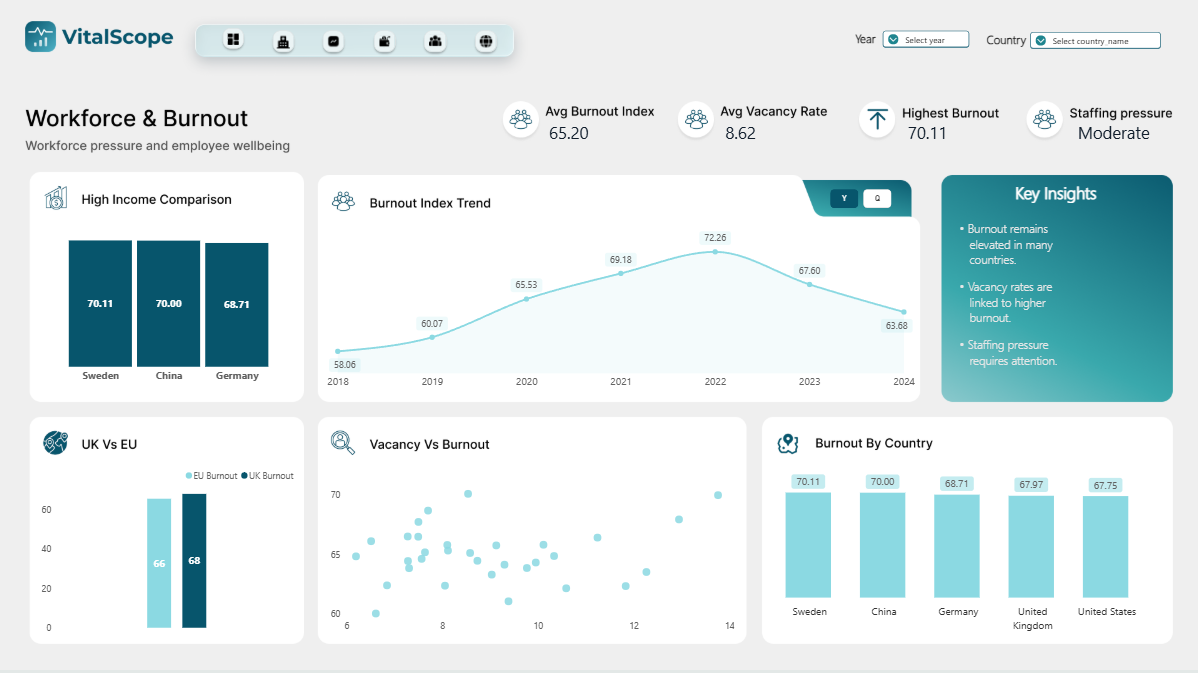

The page's visual inventory and layout, read from the dashboard file:
{"tool":"powerbi","page":{"name":"Workforce & Burnout","canvas":[1920,1080],"ordinal":4},"visuals":[{"type":"actionButton","box":[358.8,48.9,33.8,33.1],"z":0},{"type":"actionButton","box":[438.9,51,34,34],"z":1000},{"type":"actionButton","box":[518.9,51,34,34],"z":2000},{"type":"actionButton","box":[600.6,51,34,34],"z":3000},{"type":"actionButton","box":[680.5,51,35.7,34],"z":4000},{"type":"actionButton","box":[762.2,51,34,34],"z":5000},{"type":"listSlicer","fields":{"Values":["dim_country.country_name"]},"box":[1634.7,40.8,240.8,71],"z":6000},{"type":"textbox","box":[1580,53.3,70,25],"z":7000},{"type":"textbox","box":[1370.2,52.6,57.9,38.6],"z":8000},{"type":"listSlicer","fields":{"Values":["dim_date.year"]},"box":[1398.2,38.6,170.2,70.2],"z":9000},{"type":"advancedSlicerVisual","fields":{"Values":["trends.trends"]},"box":[1330,306,98,30],"z":10000},{"type":"cardVisual","fields":{"Data":["_Measures.Avg Burnout Index"]},"box":[864.3,195.7,148,39.1],"z":11000},{"type":"cardVisual","fields":{"Data":["_Measures.Avg Vacancy Rate"]},"box":[1146.7,195.7,148,39.1],"z":12000},{"type":"cardVisual","fields":{"Data":["_Measures.Highest Burnout"]},"box":[1437.6,195.7,148,39.1],"z":13000},{"type":"cardVisual","fields":{"Data":["_Measures.Staffing Pressure"]},"box":[1709.8,195.7,148,39.1],"z":14000},{"type":"lineChart","fields":{"Category":["dim_date.year"],"Y":["_Measures.Avg Burnout Index"]},"box":[508.6,352.8,973.9,294.3],"z":15000},{"type":"scatterChart","fields":{"Category":["dim_country.country_name"],"X":["_Measures.Avg Vacancy Rate"],"Y":["_Measures.Avg Burnout Index"]},"box":[513.9,733.1,678.8,300.6],"z":16000},{"type":"columnChart","fields":{"Category":["dim_country.country_name"],"Y":["_Measures.Avg Burnout Index"]},"box":[1167.9,733.4,707.1,299],"z":17000},{"type":"clusteredColumnChart","fields":{"Y":["_Measures.EU Burnout","_Measures.UK Burnout"]},"box":[52.4,733.1,440.2,300.6],"z":18000},{"type":"clusteredColumnChart","fields":{"Category":["dim_country.country_name"],"Y":["_Measures.Avg Burnout Index"]},"box":[52.4,335.5,440.2,300.6],"z":19000},{"type":"textbox","box":[1522.7,338.6,280.7,316.4],"z":20000},{"type":"textbox","box":[1626.8,291.1,189.3,114.3],"z":21000}]}

Visuals, with their boxes in screenshot pixels (x1, y1, x2, y2), scaled from the page's 1920x1080 canvas onto the 1198x673 screenshot:
actionButton: select_region(224, 30, 245, 51)
actionButton: select_region(274, 32, 295, 53)
actionButton: select_region(324, 32, 345, 53)
actionButton: select_region(375, 32, 396, 53)
actionButton: select_region(425, 32, 447, 53)
actionButton: select_region(476, 32, 497, 53)
listSlicer - dim_country.country_name: select_region(1020, 25, 1170, 70)
textbox: select_region(986, 33, 1030, 49)
textbox: select_region(855, 33, 891, 57)
listSlicer - dim_date.year: select_region(872, 24, 979, 68)
advancedSlicerVisual - trends.trends: select_region(830, 191, 891, 209)
cardVisual - _Measures.Avg Burnout Index: select_region(539, 122, 632, 146)
cardVisual - _Measures.Avg Vacancy Rate: select_region(715, 122, 808, 146)
cardVisual - _Measures.Highest Burnout: select_region(897, 122, 989, 146)
cardVisual - _Measures.Staffing Pressure: select_region(1067, 122, 1159, 146)
lineChart - dim_date.year x _Measures.Avg Burnout Index: select_region(317, 220, 925, 403)
scatterChart - dim_country.country_name x _Measures.Avg Vacancy Rate: select_region(321, 457, 744, 644)
columnChart - dim_country.country_name x _Measures.Avg Burnout Index: select_region(729, 457, 1170, 643)
clusteredColumnChart - _Measures.EU Burnout x _Measures.UK Burnout: select_region(33, 457, 307, 644)
clusteredColumnChart - dim_country.country_name x _Measures.Avg Burnout Index: select_region(33, 209, 307, 396)
textbox: select_region(950, 211, 1125, 408)
textbox: select_region(1015, 181, 1133, 253)
